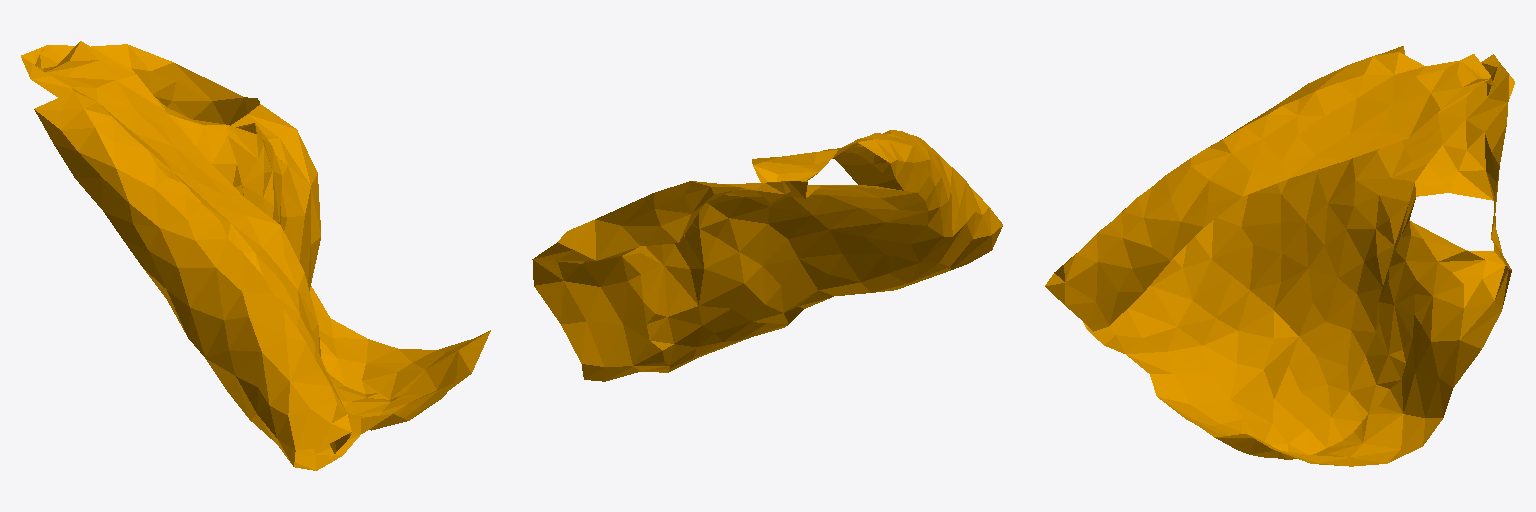
The robot description file, URDF, robot "init":
<?xml version='1.0' encoding='utf-8'?>
<robot name="init">
<link name="link_0"><inertial><mass value="1.0" /><origin rpy="0 0 0" xyz="0.000000 0.000000 0.000000" /><inertia ixx="1.0" ixy="0.0" ixz="0.0" iyy="1.0" iyz="0.0" izz="1.0" /></inertial><visual><origin rpy="0 0 0" xyz="0.000000 0.000000 0.000000" /><geometry><mesh filename="./clothHuman/cloth/1340.obj" /></geometry></visual><collision><origin rpy="0 0 0" xyz="0.000000 0.000000 0.000000" /><geometry><mesh filename="./clothHuman/cloth/1340.obj" /></geometry></collision></link></robot>

--- Facts derived from the render (not from the file) ---
Views: 3 orthographic renders of the robot side by side, from view 1: azimuth 30°, elevation 25°; view 2: azimuth 150°, elevation 25°; view 3: azimuth 270°, elevation 25°.
Robot: init — 1 links, 0 joints (none); root link link_0; default pose: all joints at 0.
Visible links, largest first — view 1: link_0; view 2: link_0; view 3: link_0.
Boxes of the visible links, x1,y1,x2,y2 form: link_0: (21,41,490,470); link_0: (532,130,1002,381); link_0: (1045,46,1514,466).
Size in the robot's own frame: 3.02 by 3.66 by 2.55 metres.
Meshes: 1 distinct files referenced, 1 mesh visuals loaded (1 OBJ).